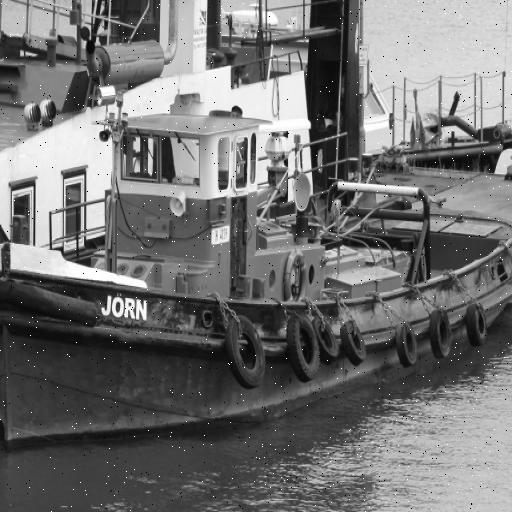tugboat: (1, 84, 512, 459)
